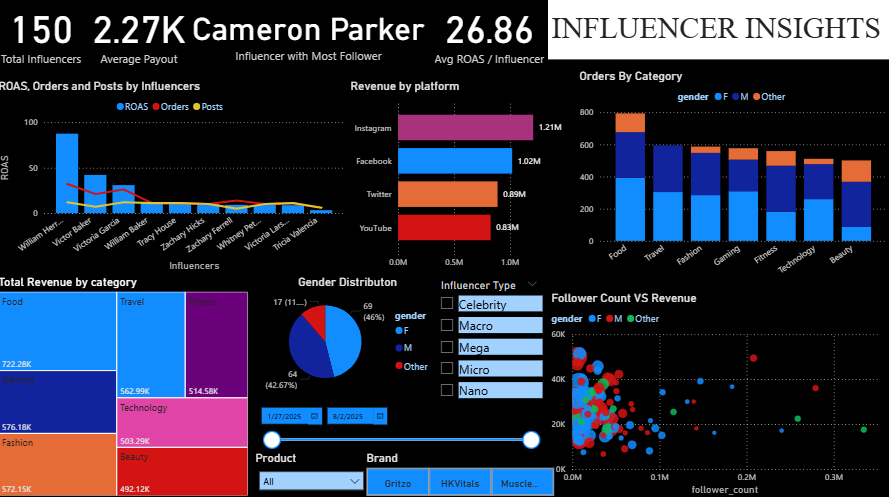

What the dashboard file says about the page in this screenshot:
{"tool":"powerbi","page":{"name":"Influencer Insights","canvas":[1280,720],"ordinal":1},"visuals":[{"type":"card","fields":{"Values":["influencers.name"]},"box":[0,0,131.7,106.7],"z":0},{"type":"card","fields":{"Values":["payouts.total_payout"]},"box":[131.7,0,148.3,106.7],"z":1000},{"type":"card","fields":{"Values":["influencers.Top Influencer1"]},"box":[273.3,0,350,106.7],"z":2000},{"type":"lineStackedColumnComboChart","fields":{"Category":["influencers.name"],"Y":["tracking_data.ROAS"],"Y2":["payouts.orders","posts.post_id"]},"box":[0,119.7,503.5,279.9],"z":3000},{"type":"treemap","title":"Total Revenue by category","fields":{"Group":["influencers.category"],"Values":["tracking_data.Total Revenue"]},"box":[0,399.7,366.2,320.4],"z":4000},{"type":"scatterChart","title":"Follower Count VS Revenue","fields":{"X":["influencers.follower_count"],"Y":["tracking_data.revenue"],"Size":["tracking_data.ROAS"],"Series":["influencers.gender"]},"box":[790.5,422.6,489.5,297.6],"z":5000},{"type":"pieChart","title":"Gender Distributon","fields":{"Category":["influencers.gender"],"Y":["influencers.id"]},"box":[367.2,400,273.1,171.6],"z":6000},{"type":"columnChart","title":"Orders By Category","fields":{"Series":["influencers.gender"],"Category":["influencers.category"],"Y":["tracking_data.orders"]},"box":[830.2,106.3,449.2,315.9],"z":7000},{"type":"card","fields":{"Values":["tracking_data.Avg ROAS per Influencer"]},"box":[623.3,0,166.7,106.7],"z":8000},{"type":"barChart","fields":{"Category":["influencers.platform"],"Y":["tracking_data.revenue"]},"box":[503.3,120,326.7,280],"z":9000},{"type":"textbox","box":[790.5,0,488.9,92.1],"z":10000},{"type":"slicer","fields":{"Values":["tracking_data.date"]},"box":[367.1,578.6,420,72.9],"z":11000},{"type":"slicer","title":"Product","fields":{"Values":["tracking_data.product"]},"box":[366.7,650.8,169.8,69.8],"z":12000},{"type":"advancedSlicerVisual","fields":{"Values":["tracking_data.Brand"]},"box":[525.4,650.8,279.4,69.8],"z":13000},{"type":"slicer","fields":{"Values":["influencers.Influencer Tier"]},"box":[623.9,400,162.7,214.9],"z":14000}]}

Visuals, with their boxes in screenshot pixels (x1, y1, x2, y2), scaled from the page's 1280x720 canvas onto the 889x497 screenshot:
card - influencers.name: region(0, 0, 91, 74)
card - payouts.total_payout: region(91, 0, 194, 74)
card - influencers.Top Influencer1: region(190, 0, 433, 74)
lineStackedColumnComboChart - influencers.name x tracking_data.ROAS: region(0, 83, 350, 276)
"Total Revenue by category" treemap: region(0, 276, 254, 496)
"Follower Count VS Revenue" scatterChart: region(549, 292, 888, 496)
"Gender Distributon" pieChart: region(255, 276, 445, 395)
"Orders By Category" columnChart: region(577, 73, 888, 291)
card - tracking_data.Avg ROAS per Influencer: region(433, 0, 549, 74)
barChart - influencers.platform x tracking_data.revenue: region(350, 83, 576, 276)
textbox: region(549, 0, 888, 64)
slicer - tracking_data.date: region(255, 399, 547, 450)
"Product" slicer: region(255, 449, 373, 496)
advancedSlicerVisual - tracking_data.Brand: region(365, 449, 559, 496)
slicer - influencers.Influencer Tier: region(433, 276, 546, 424)
